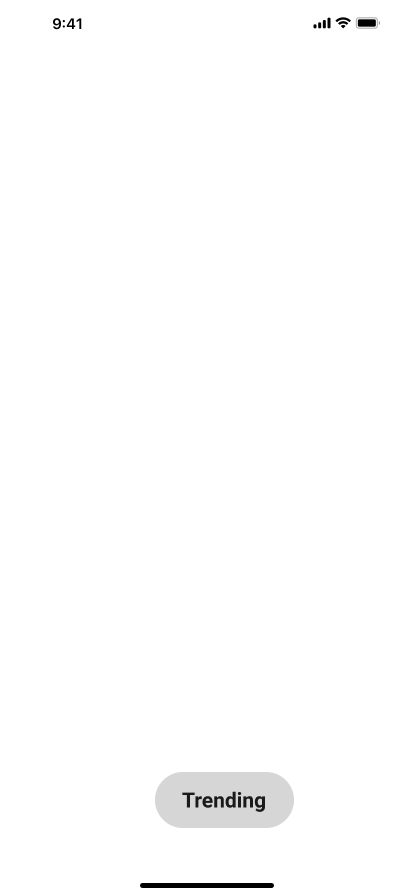Buttons: (155, 772, 302, 828)
Home Indicator: (0, 862, 414, 896)
Status Bar: (0, 0, 414, 44)
